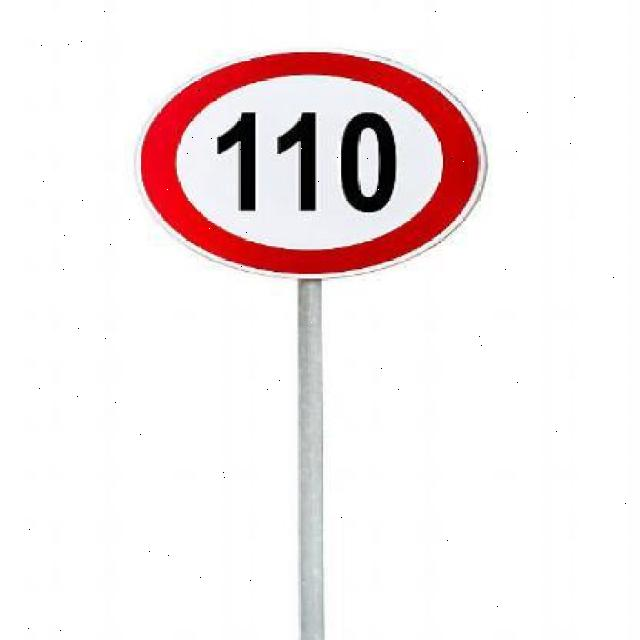speed limit 110: (136, 47, 489, 281)
